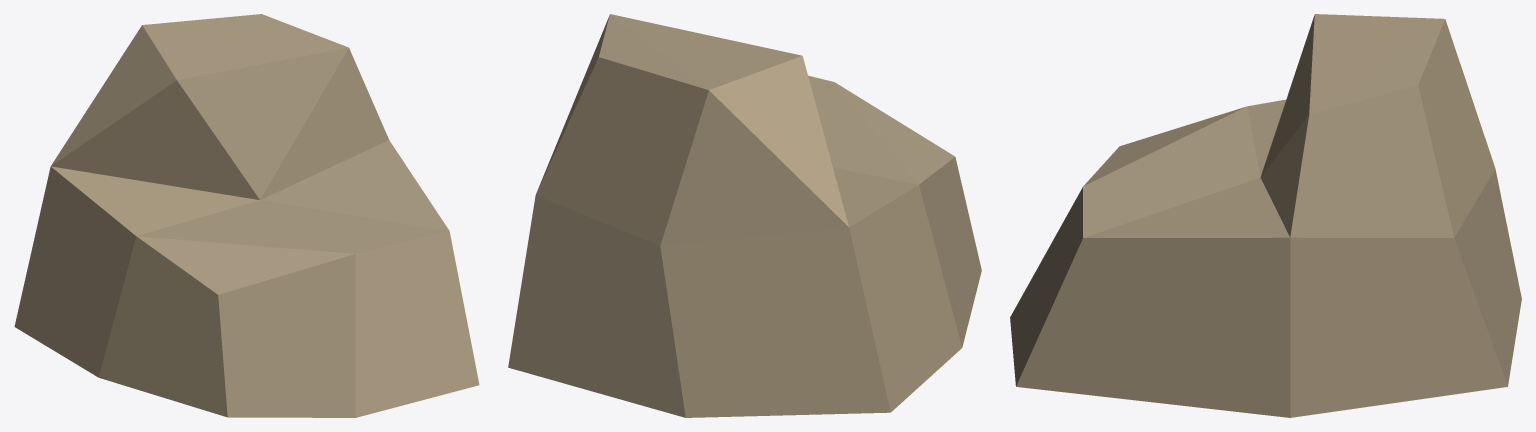
Rendered from FlatRock-B06.fbx.
3 renders of one model, left to right at view 1: azimuth 30°, elevation 25°; view 2: azimuth 150°, elevation 25°; view 3: azimuth 270°, elevation 25°, orthographic. The views are drawn at different scales.
Visible parts, largest first — view 1: FlatRock-B06; view 2: FlatRock-B06; view 3: FlatRock-B06.
Part boxes in pixels (x1,y1,x2,y2): FlatRock-B06: [14, 14, 479, 417]; FlatRock-B06: [508, 14, 981, 417]; FlatRock-B06: [1010, 14, 1521, 417].
Size of the model in its own units: 146 by 104 by 167.
